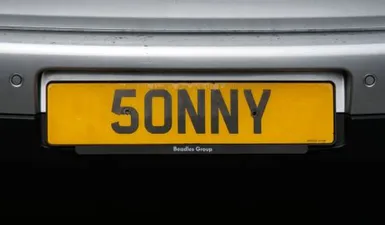number_plate: (38, 66, 359, 156)
